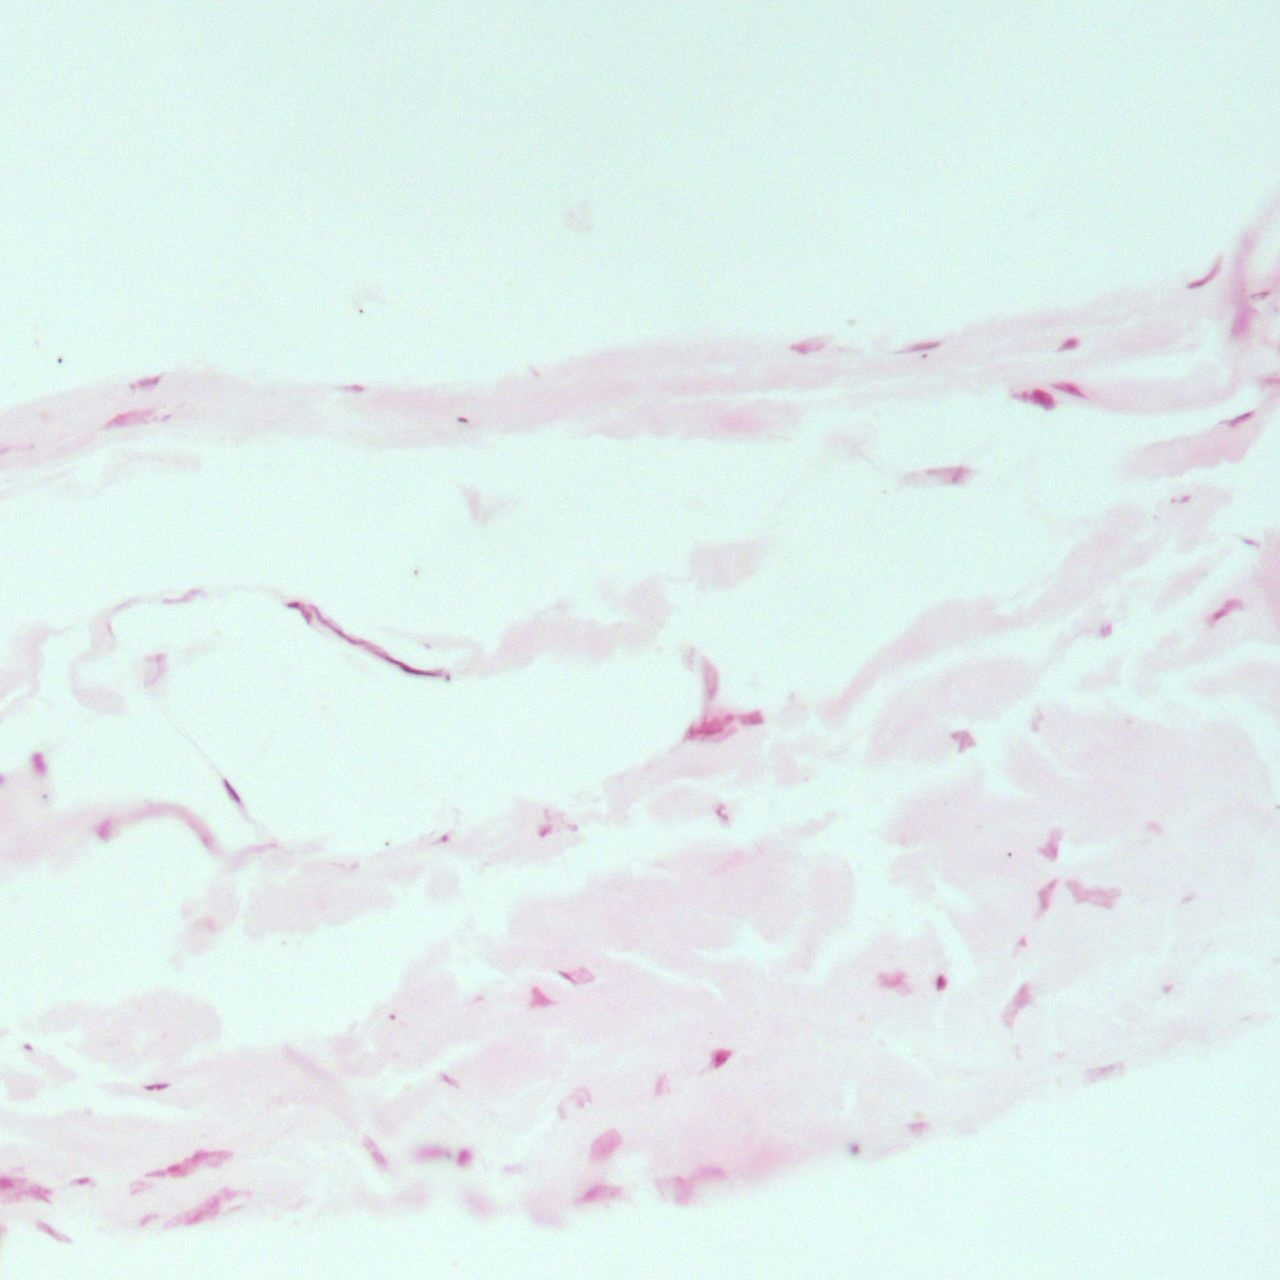dust: (1248, 290, 1271, 302), (849, 1141, 862, 1157), (452, 416, 474, 425), (19, 1039, 32, 1054), (843, 314, 855, 327), (381, 836, 389, 849), (388, 1014, 399, 1022), (55, 358, 64, 365), (1007, 849, 1013, 859), (919, 354, 930, 360), (358, 308, 366, 315), (411, 570, 418, 577)
nucleus-AC: (290, 598, 454, 693), (144, 1141, 231, 1192), (164, 1183, 243, 1237), (572, 1176, 629, 1212), (995, 981, 1036, 1029), (1182, 256, 1227, 294), (1065, 878, 1122, 908), (100, 404, 159, 433), (584, 1124, 626, 1164), (358, 1131, 394, 1175), (1204, 592, 1242, 632), (679, 715, 727, 743), (661, 1175, 695, 1211), (1032, 874, 1061, 915), (1034, 825, 1065, 863), (1048, 375, 1087, 404), (1013, 387, 1056, 411), (34, 1219, 73, 1245), (1084, 1061, 1126, 1084), (899, 335, 944, 354), (1221, 409, 1258, 431), (130, 372, 163, 396), (878, 968, 908, 994), (1228, 305, 1253, 335), (930, 465, 968, 484), (220, 776, 244, 806), (285, 598, 312, 622), (556, 968, 593, 986), (787, 338, 822, 356), (411, 1144, 451, 1160), (949, 729, 975, 754), (20, 1182, 52, 1201), (702, 666, 719, 700), (437, 1071, 463, 1092), (1054, 334, 1080, 355), (29, 750, 50, 775), (696, 1166, 728, 1182), (1029, 704, 1046, 734), (709, 1048, 731, 1069), (652, 1073, 670, 1097), (736, 710, 765, 726), (136, 1210, 158, 1228), (529, 988, 550, 1007), (907, 1121, 927, 1139), (1144, 821, 1163, 839), (455, 1148, 472, 1167), (97, 819, 114, 840), (1097, 619, 1114, 639), (141, 1081, 171, 1091), (712, 801, 726, 823), (499, 1164, 523, 1176), (935, 972, 947, 995), (537, 823, 554, 838), (1240, 535, 1260, 546), (338, 382, 362, 392), (1177, 891, 1192, 905), (1176, 491, 1190, 504), (73, 1176, 91, 1185), (1160, 982, 1175, 994), (435, 833, 449, 842), (724, 713, 733, 726)
